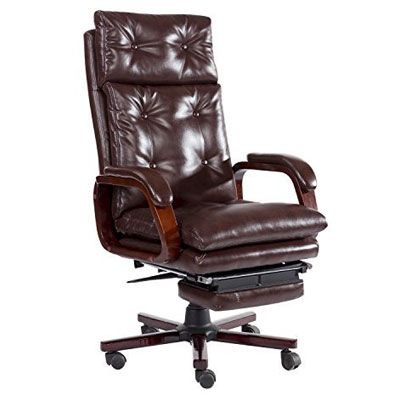chairs: (82, 9, 327, 390)
